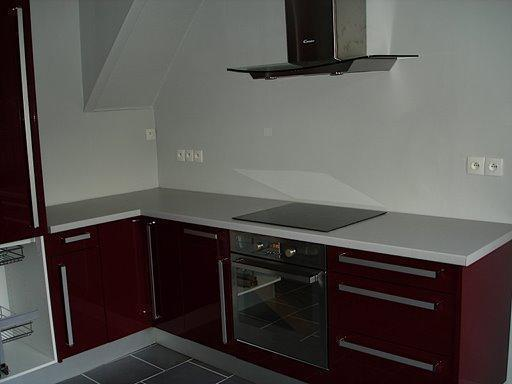Electrodomestico: (231, 214, 333, 379)
